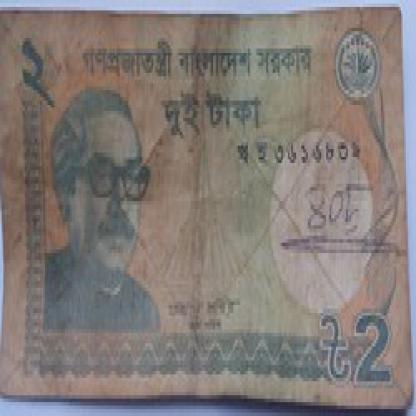two taka: (351, 298, 394, 392), (15, 38, 48, 101)
